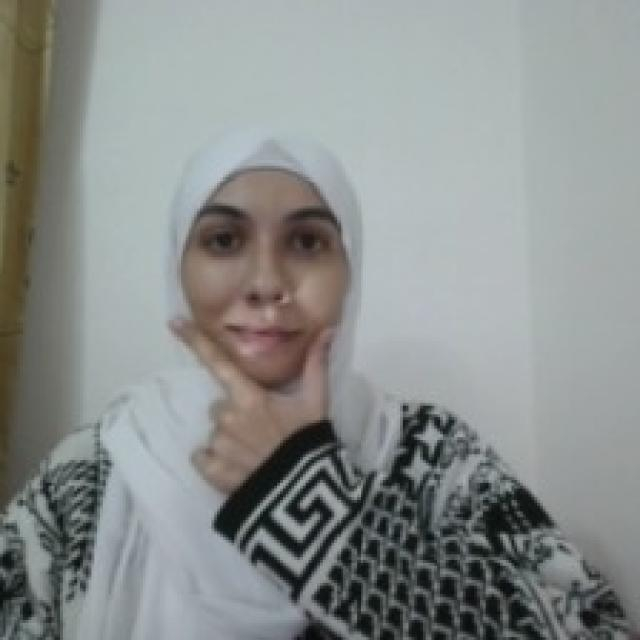smile: (156, 307, 342, 439)
